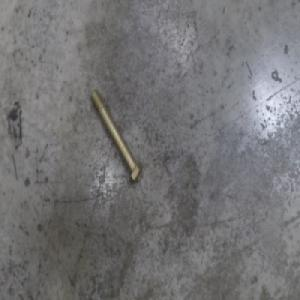Bolt: (89, 87, 143, 187)
